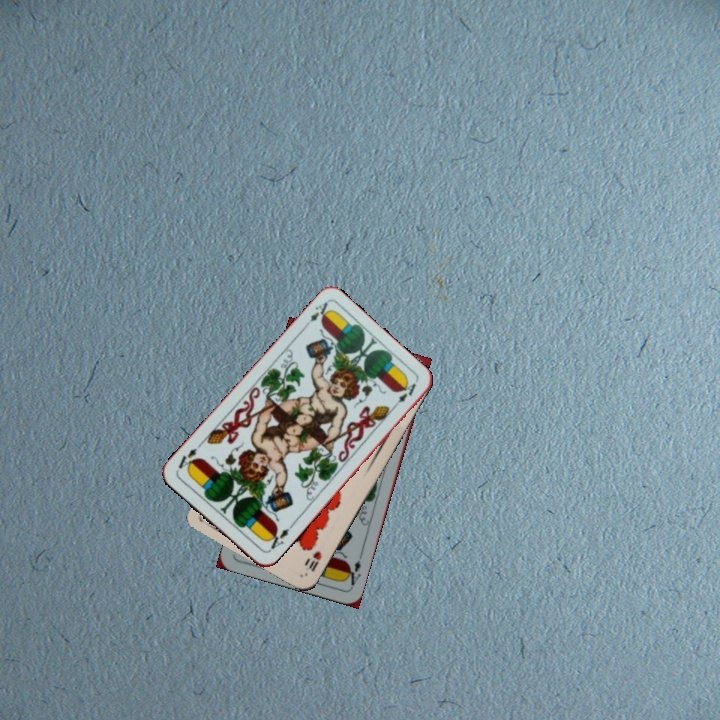EA: (299, 298, 333, 332), (263, 521, 296, 552), (341, 556, 363, 590)
H10: (301, 547, 324, 574)
